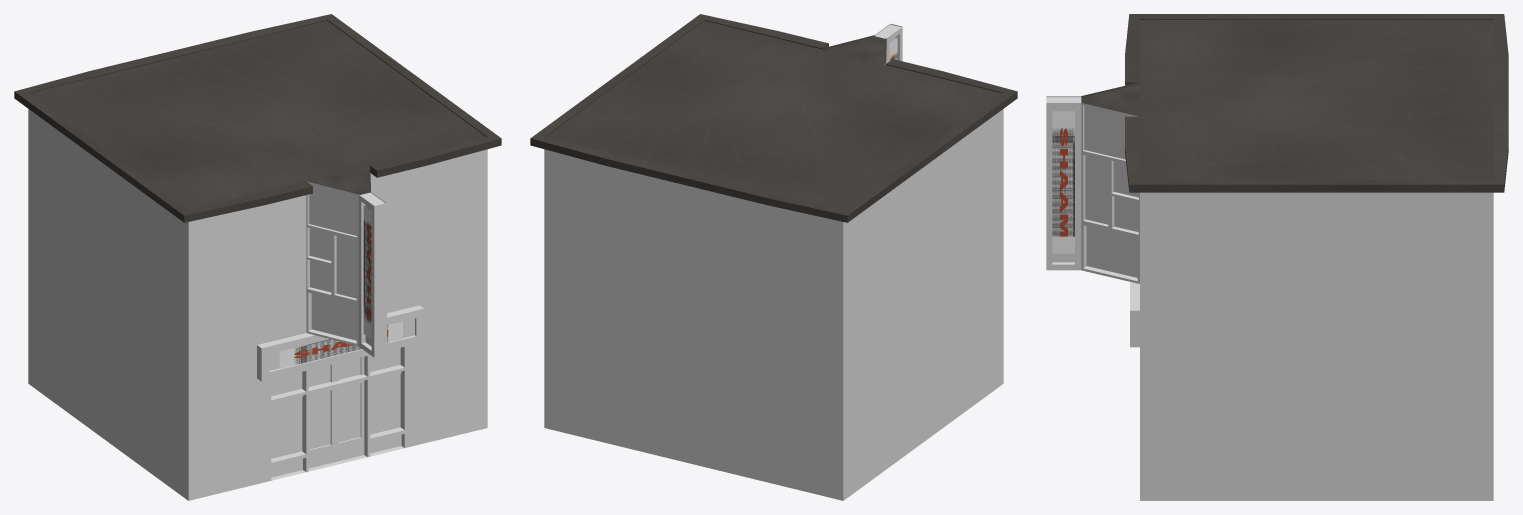
Rendered from Shaam Store.fbx.
3 views of the same model, side by side, from view 1: azimuth 30°, elevation 25°; view 2: azimuth 150°, elevation 25°; view 3: azimuth 270°, elevation 25° (orthographic). The views are drawn at different scales.
Visible parts, largest first — view 1: Cube, Plane, Plane.002; view 2: Cube; view 3: Cube, Plane.001.
Part boxes in pixels (x1,y1,x2,y2): Cube: (14,14,501,500); Plane: (279,321,402,368); Plane.002: (363,205,371,339); Cube: (530,14,1017,500); Cube: (1046,14,1508,500); Plane.001: (1052,111,1074,253).
Size of the model in its own units: 4285 by 3756 by 4903.
